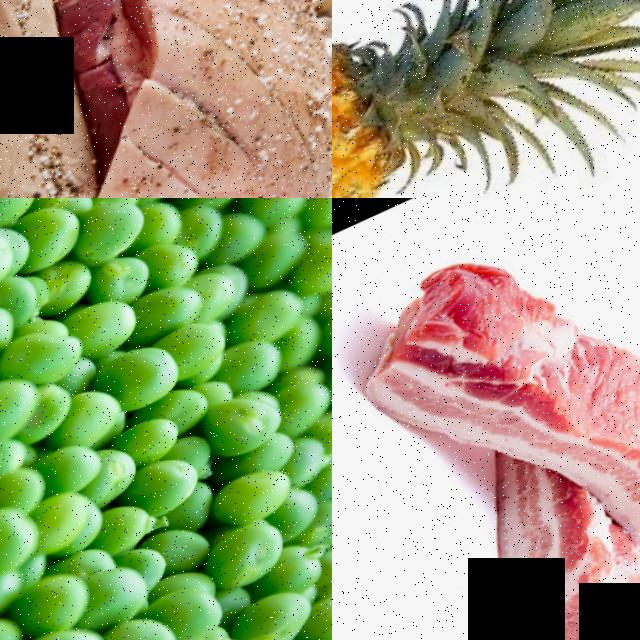peas: (0, 198, 332, 640)
pineapple: (332, 0, 484, 198)
pork belly: (333, 224, 633, 513), (0, 0, 282, 198), (436, 458, 640, 640), (542, 326, 640, 573)
